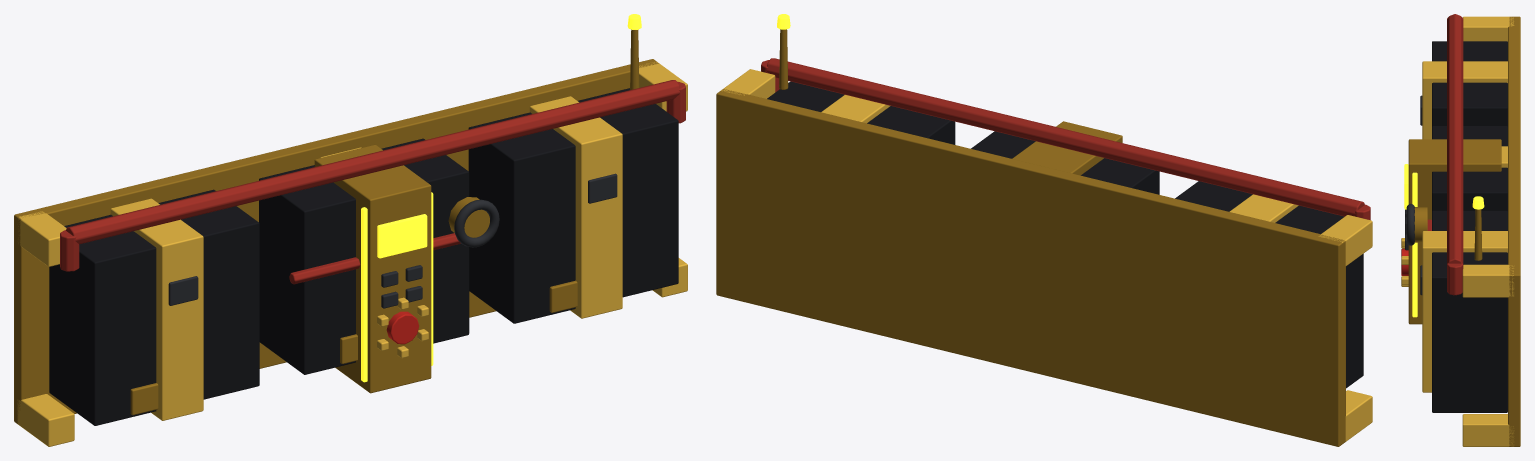
The model's file is weapon_c4_charge_lvl3.glb.
The picture shows the model from 3 angles, left to right: view 1: azimuth 30°, elevation 25°; view 2: azimuth 150°, elevation 25°; view 3: azimuth 270°, elevation 25°; orthographic projection. The views are drawn at different scales.
Parts seen in each view (by area): view 1: c4_charge_lvl3; view 2: c4_charge_lvl3; view 3: c4_charge_lvl3.
Part boxes in pixels (x1,y1,x2,y2): c4_charge_lvl3: [14, 14, 687, 446]; c4_charge_lvl3: [716, 14, 1372, 446]; c4_charge_lvl3: [1401, 14, 1520, 446].
Bounding box in the file's own units: 0.58 × 0.242 × 0.113.
